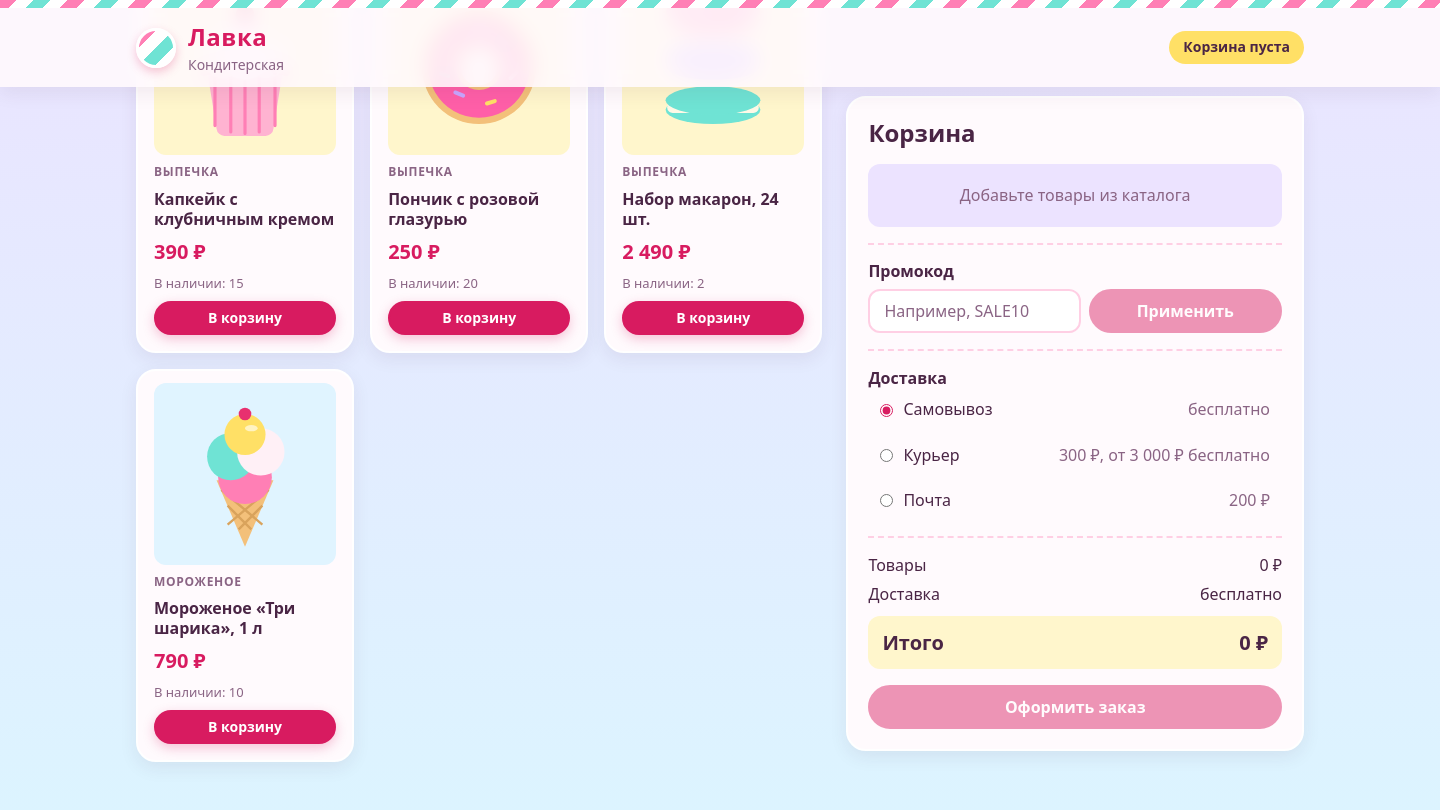
Test: «Лавка» на классах › отклоняет неизвестные и истекшие промокоды
(page scrolled)
Click the button with aria-label "В корзину: Мороженое «Три шарика», 1 л".
click(245, 727)  # box [154,710,336,744]
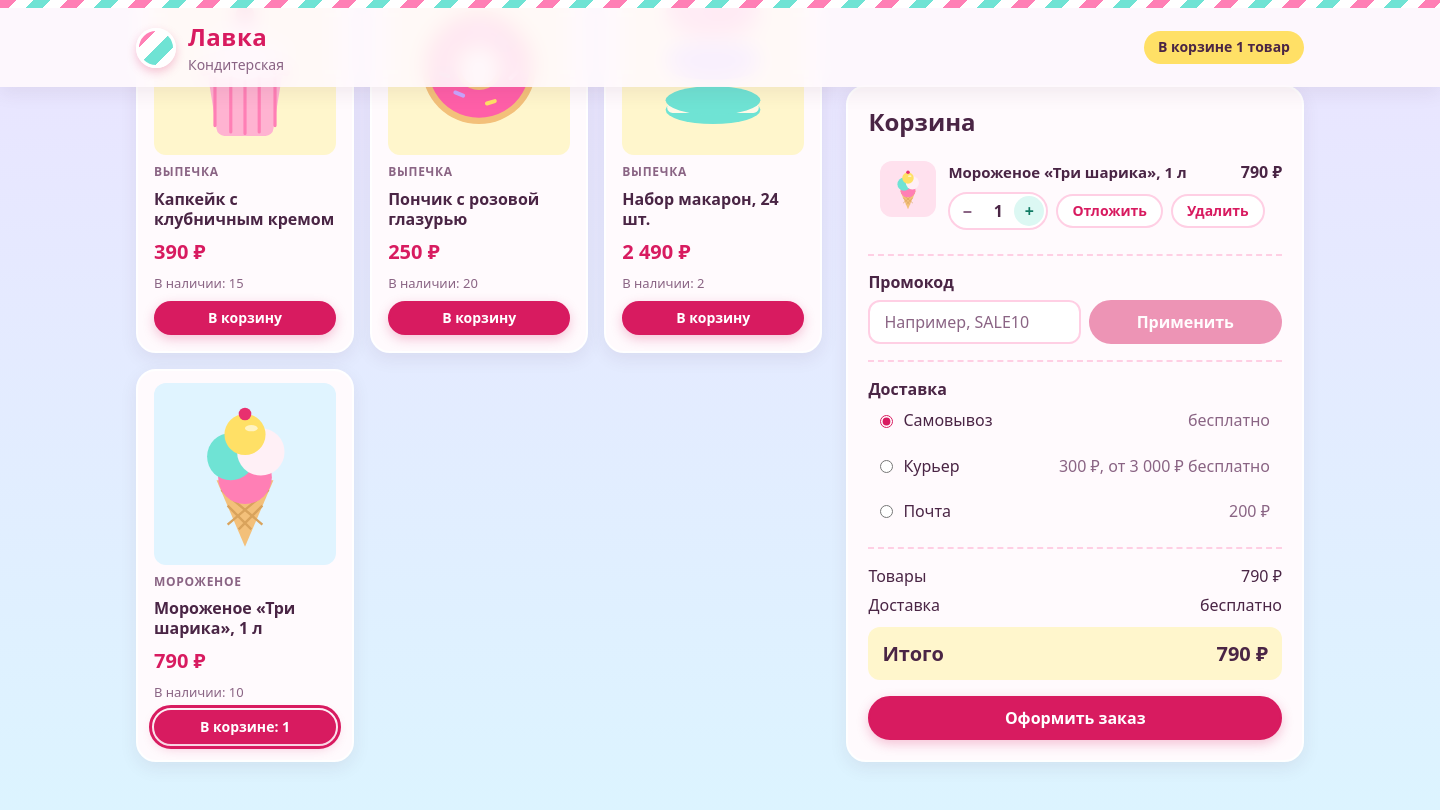
Type "NOPE" into the field named "Введите промокод".
click(974, 322); type("NOPE")  # box [868,300,1081,344]
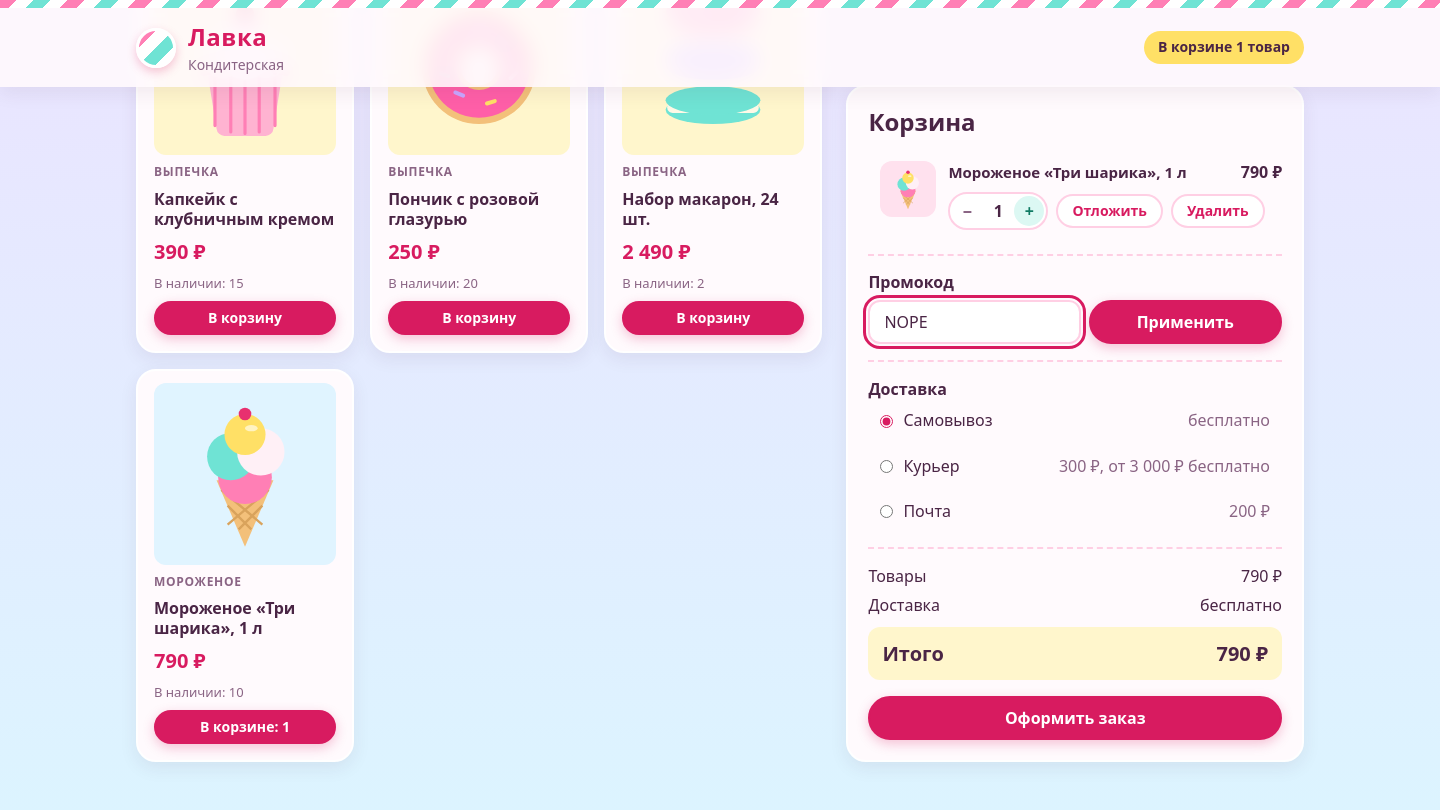
Click the button "Применить".
click(1185, 322)  # box [1088,300,1282,344]
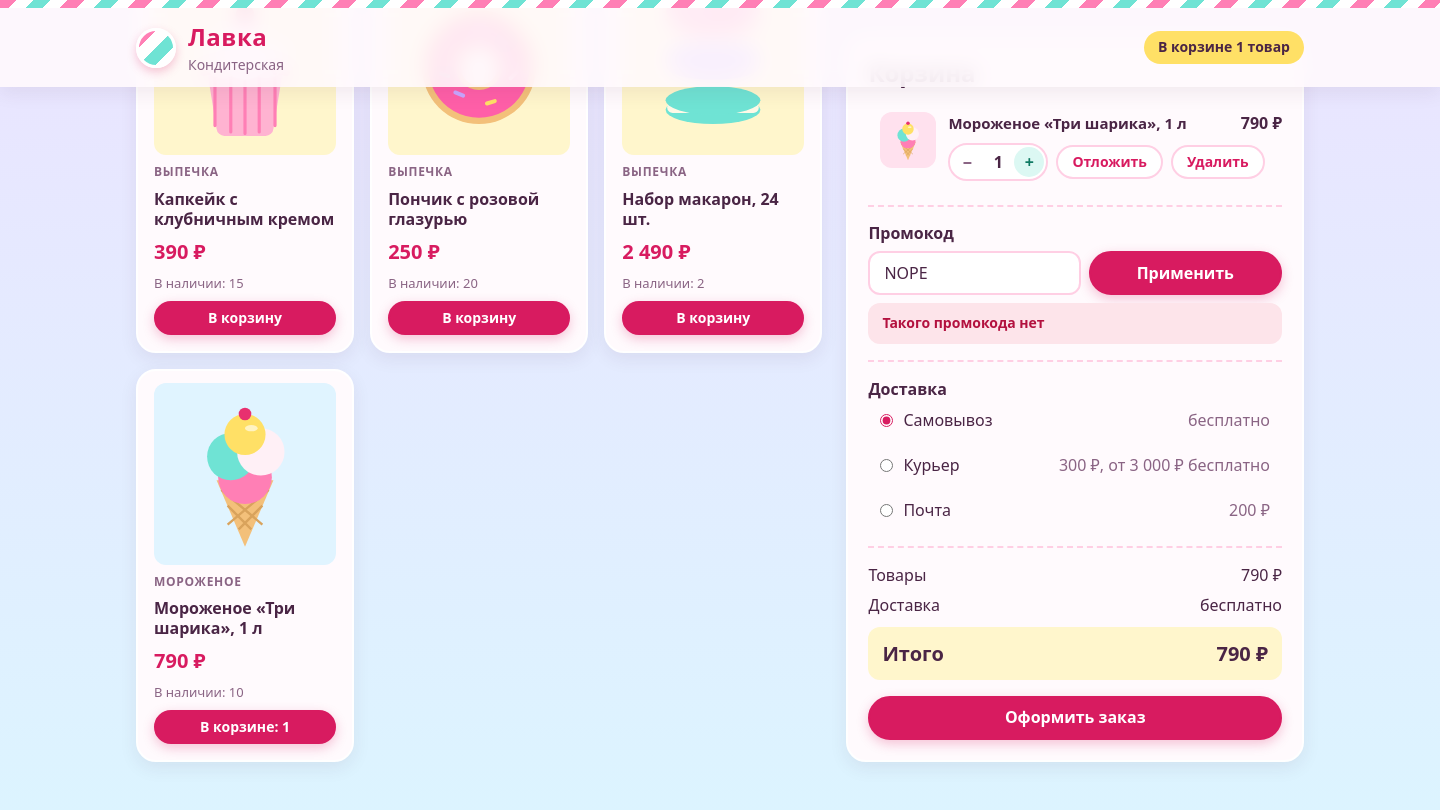
expect the message reads "Такого промокода нет": met, box [882,314,1045,333]
Clear the field named "Введите промокод" at (974, 274), box [868,252,1081,296]
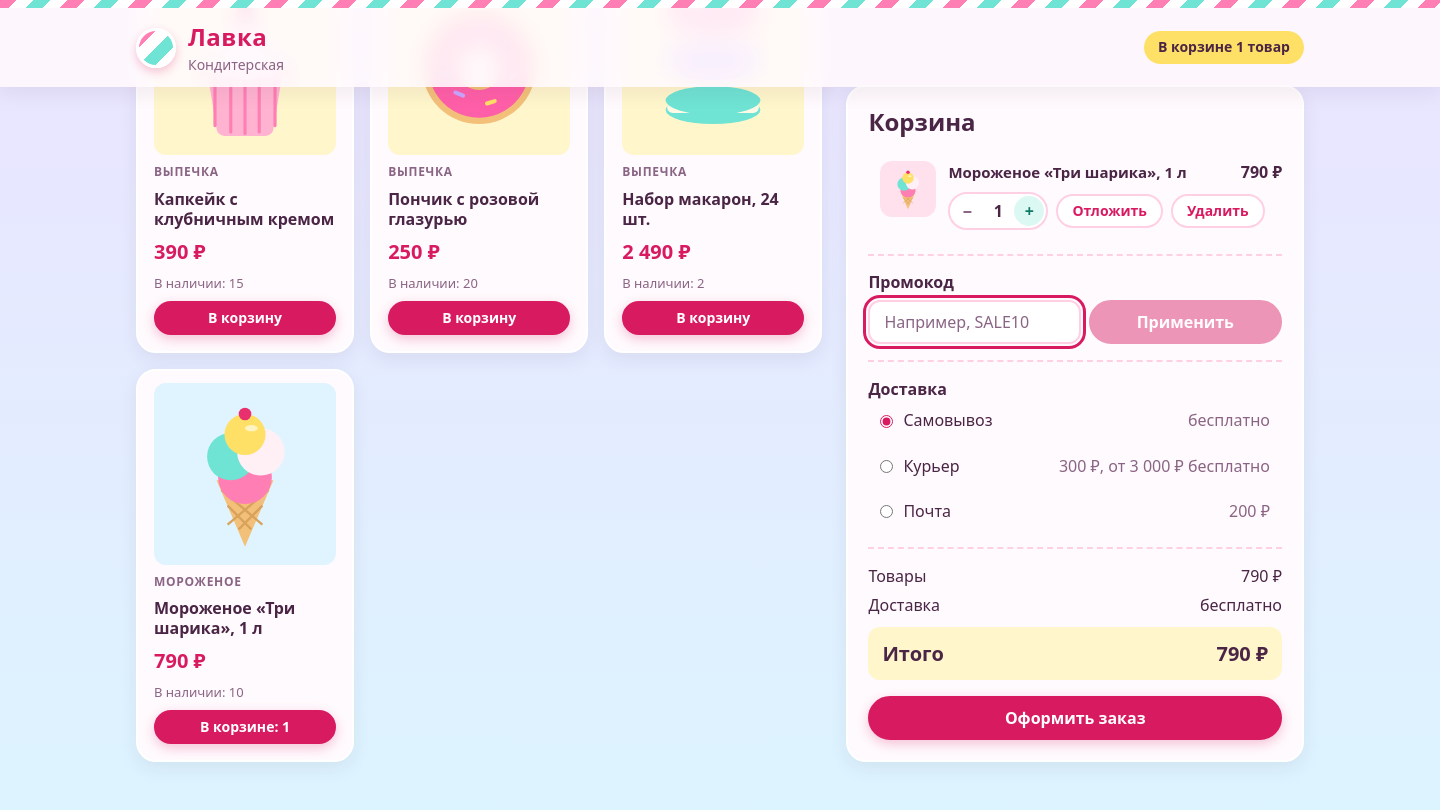
Type "SUMMER2022" into the field named "Введите промокод".
click(974, 322); type("SUMMER2022")  # box [868,300,1081,344]
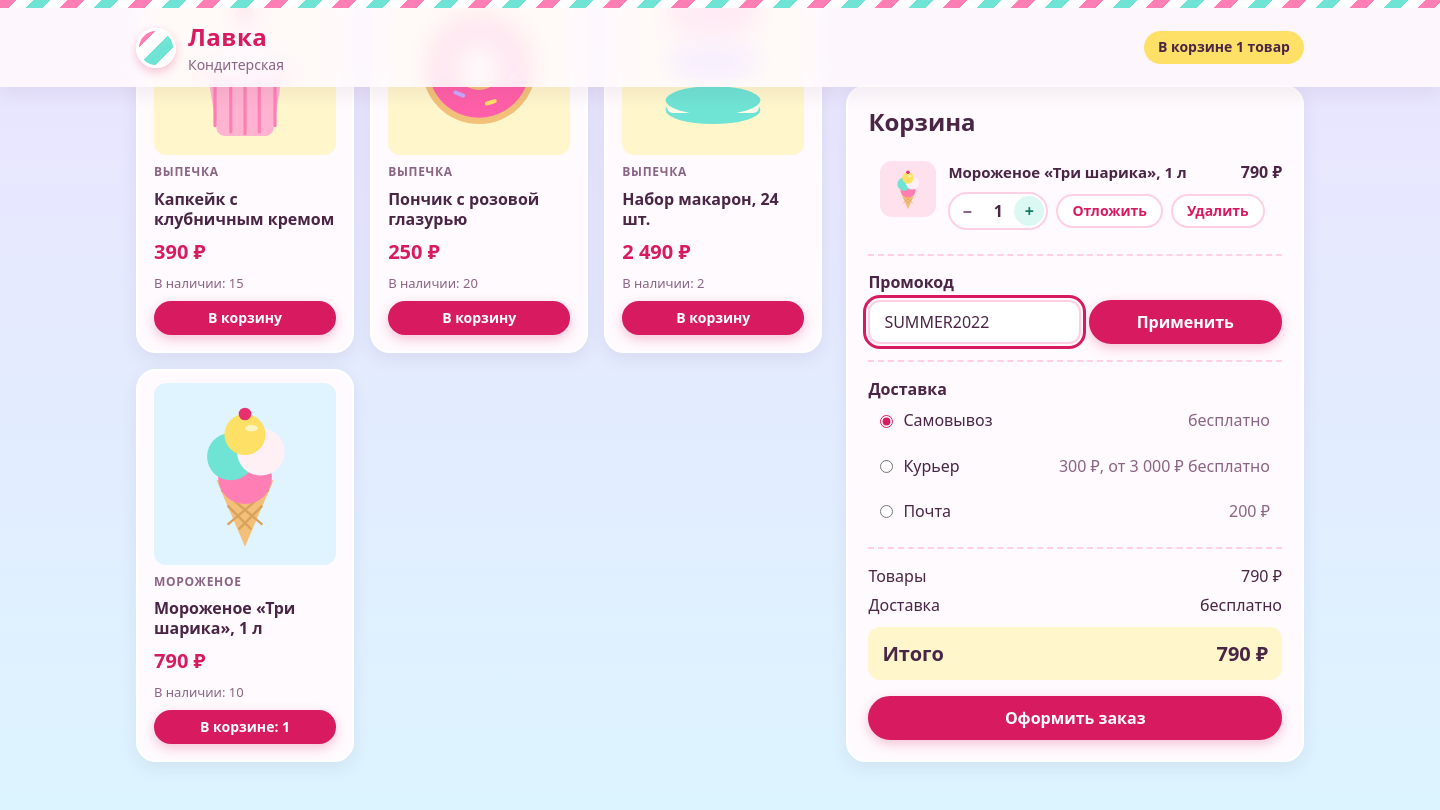
Click the button "Применить".
click(1185, 322)  # box [1088,300,1282,344]
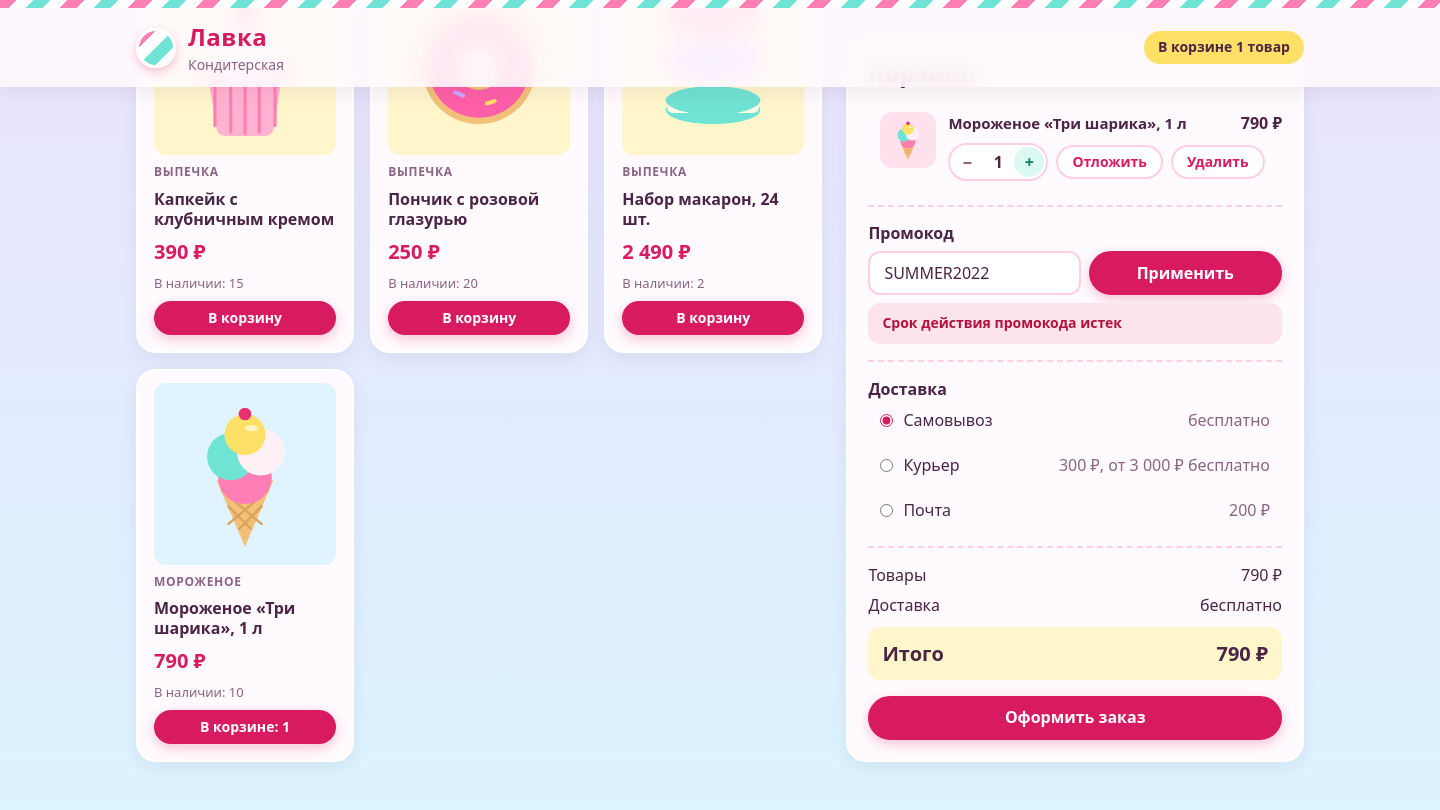
expect the message reads "Срок действия промокода истек": met, box [882,314,1122,333]
